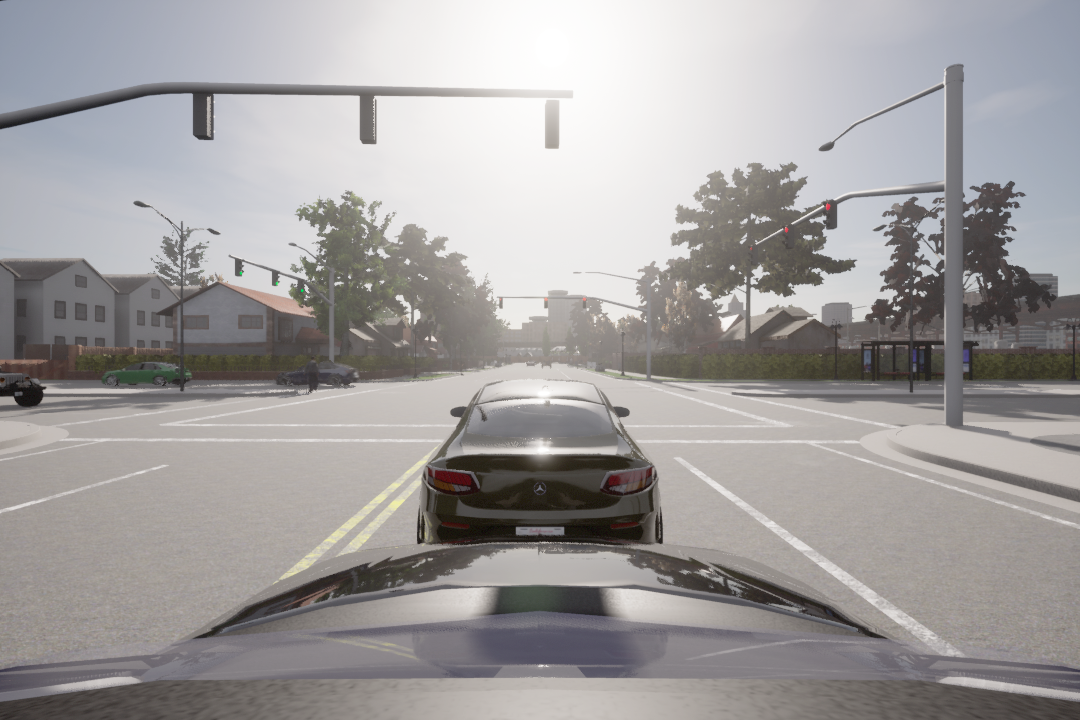TrafficLight: (820, 196, 842, 231), (780, 221, 797, 254), (233, 258, 244, 281), (270, 267, 282, 286), (747, 243, 757, 265), (297, 278, 307, 296), (542, 295, 550, 311), (581, 295, 587, 309), (497, 298, 503, 311)
